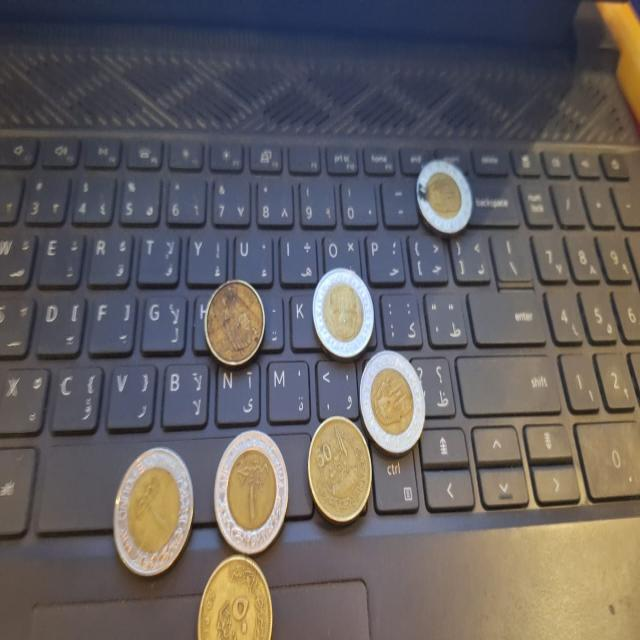Half Pound: (187, 554, 296, 638), (304, 406, 374, 536), (197, 276, 268, 370)
One Pound: (112, 441, 198, 581), (212, 417, 291, 560), (358, 343, 430, 456), (311, 262, 377, 361), (411, 150, 476, 247)
